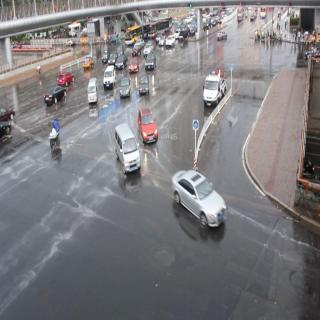Car: (170, 160, 230, 229), (111, 122, 142, 178), (135, 106, 161, 148), (204, 70, 228, 106), (43, 82, 67, 109), (85, 76, 102, 108), (56, 69, 78, 90), (102, 65, 117, 90), (0, 103, 18, 122), (139, 70, 152, 96), (120, 74, 132, 100), (0, 117, 12, 142), (129, 57, 141, 75), (165, 34, 178, 50), (82, 55, 96, 69), (218, 28, 230, 44), (146, 55, 158, 71), (109, 49, 117, 69), (118, 53, 127, 69), (102, 50, 110, 63)
